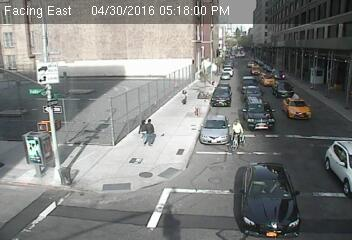neg: (35, 118, 65, 158), (11, 129, 35, 161), (94, 116, 118, 148), (184, 127, 207, 157), (55, 161, 71, 182), (119, 153, 133, 172), (171, 127, 184, 144)
pos: (140, 117, 163, 148), (227, 118, 249, 149), (178, 88, 191, 105)
